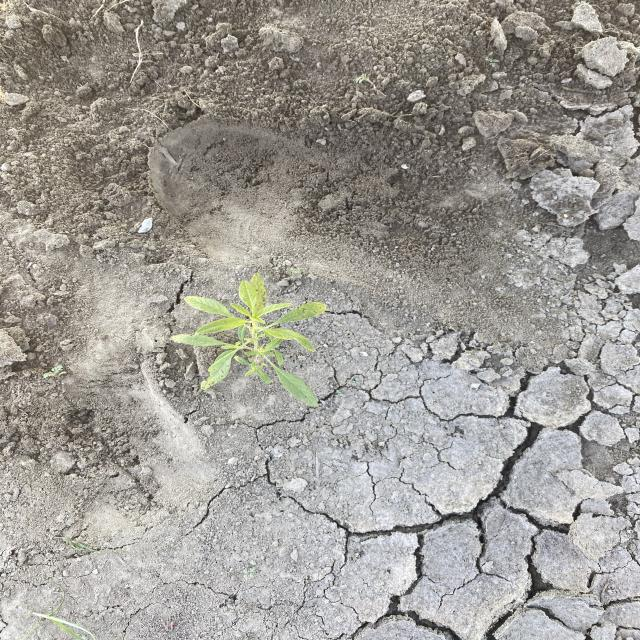Waterhemp: (164, 272, 330, 409)
